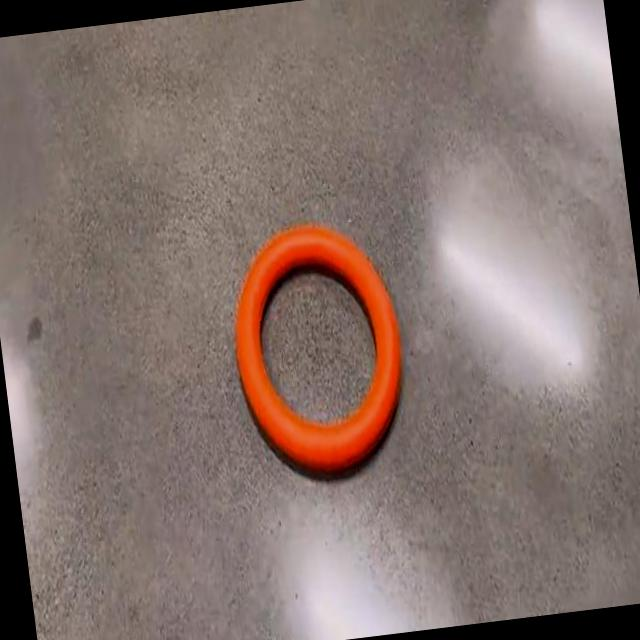note: (235, 224, 402, 472)
